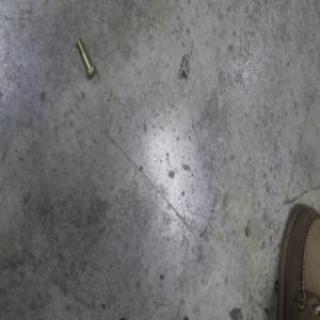Bolttrack_idkeyframe: (72, 36, 94, 81)
